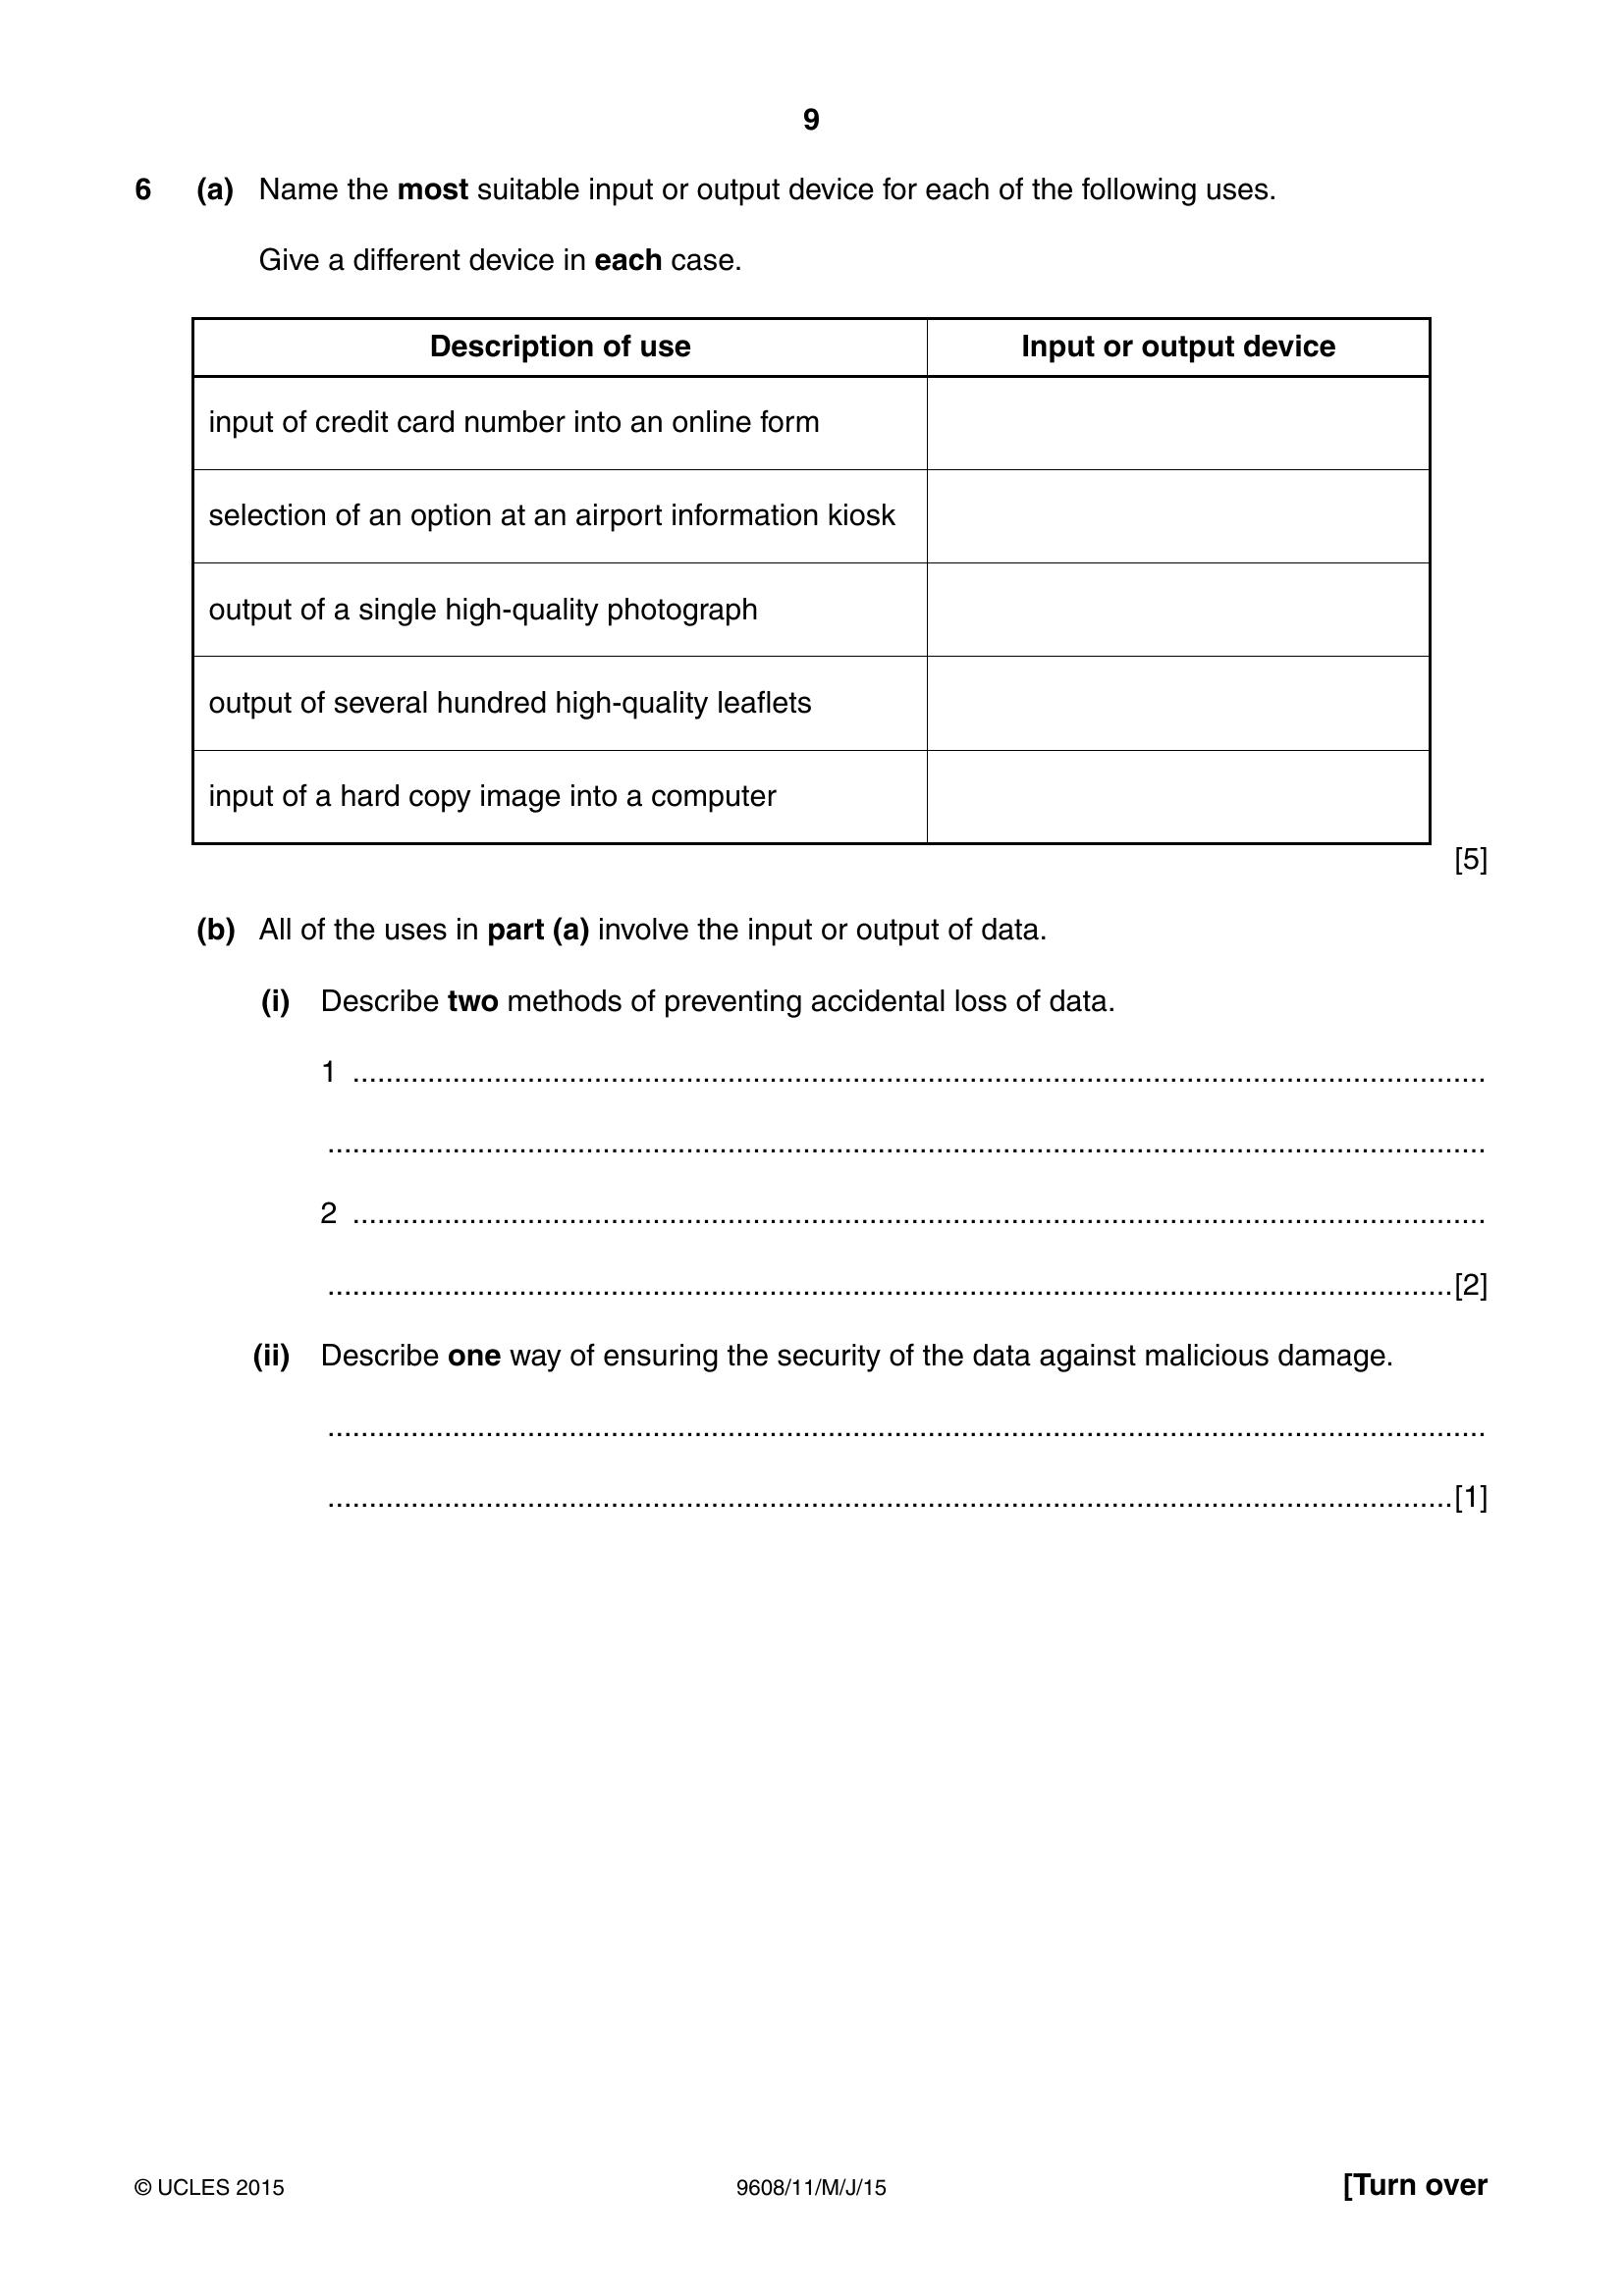question: (12, 156, 1617, 1576)
